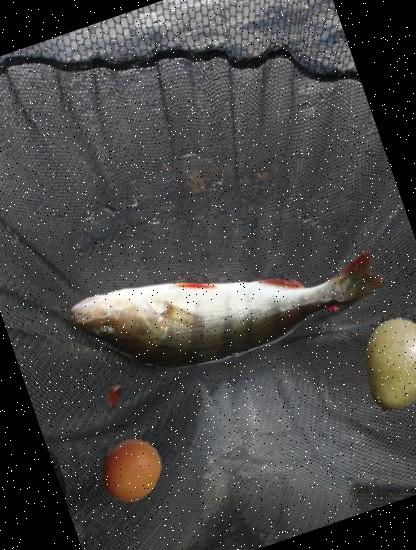Apricot: (89, 428, 173, 512)
Pear: (340, 304, 416, 429)
